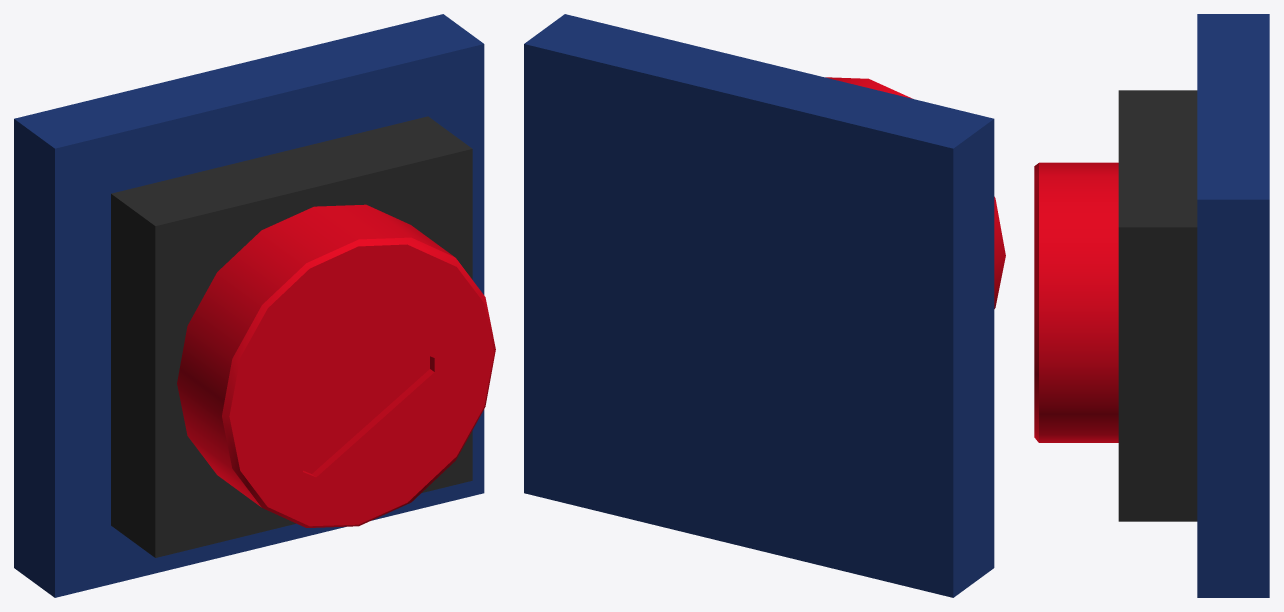
File: button.fbx
3 renders of one model, left to right at view 1: azimuth 30°, elevation 25°; view 2: azimuth 150°, elevation 25°; view 3: azimuth 270°, elevation 25°, orthographic. The views are drawn at different scales.
Parts seen in each view (by area): view 1: Cube.008, button; view 2: Cube.008, button; view 3: Cube.008, button.
Boxes of the visible parts, x1=… form: Cube.008: x1=14, y1=14, x2=484, y2=597; button: x1=177, y1=204, x2=495, y2=527; Cube.008: x1=524, y1=14, x2=994, y2=597; button: x1=825, y1=77, x2=1005, y2=308; Cube.008: x1=1118, y1=14, x2=1269, y2=597; button: x1=1034, y1=162, x2=1118, y2=442.
Size of the model in its own units: 1.23 by 1.23 by 0.6586.
